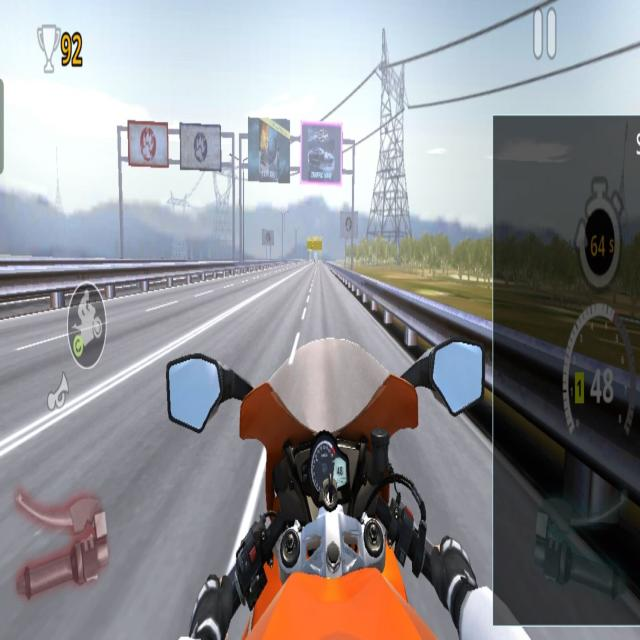billboard: (247, 114, 291, 184), (302, 121, 342, 184), (127, 118, 170, 170), (180, 122, 222, 170)
